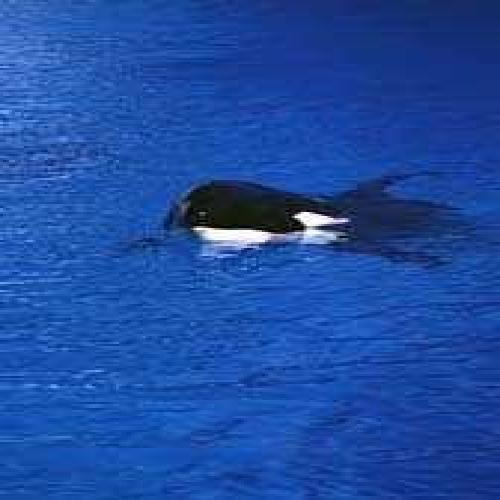killer_whale-endangered: (144, 155, 447, 262)
